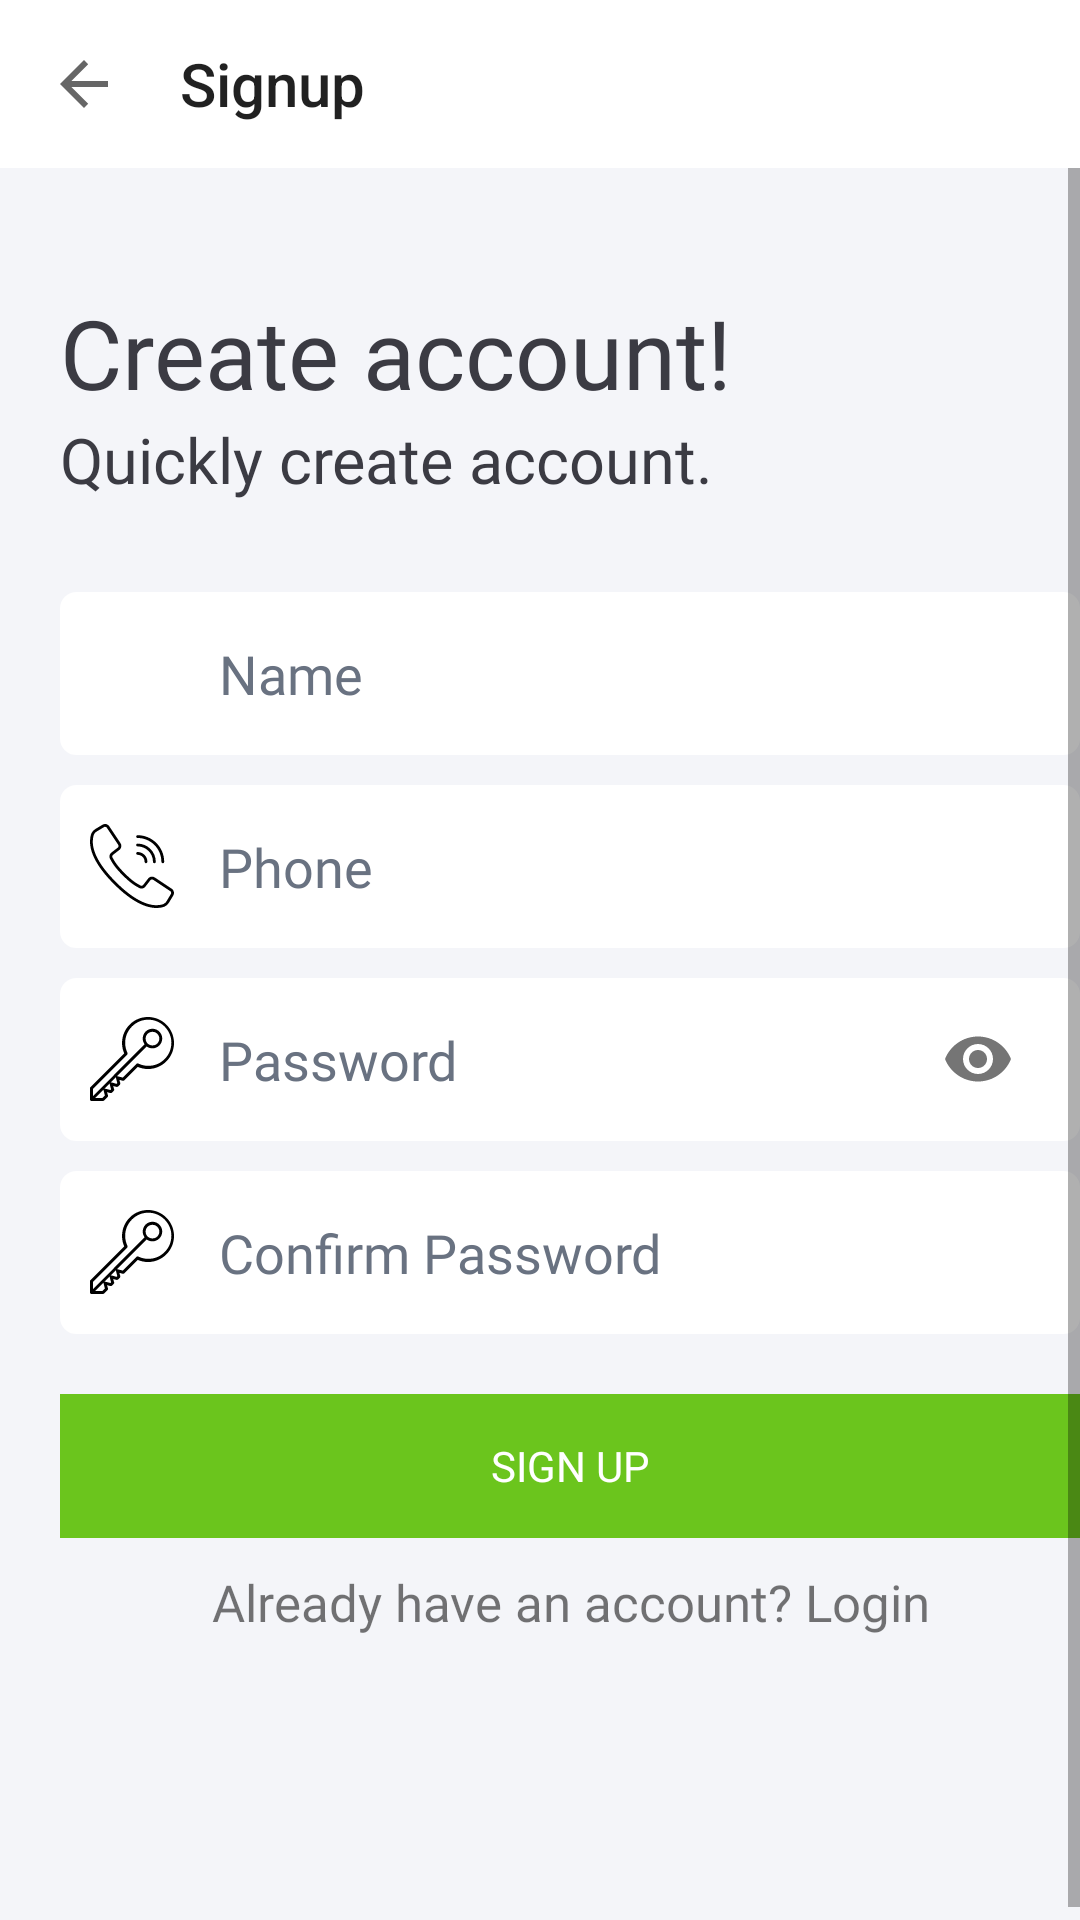

Icons on this 1080*1920 Android screen, each with its box as (x1, y1, x2, y2):
key: (90, 1017, 174, 1101), (90, 1210, 174, 1294)
